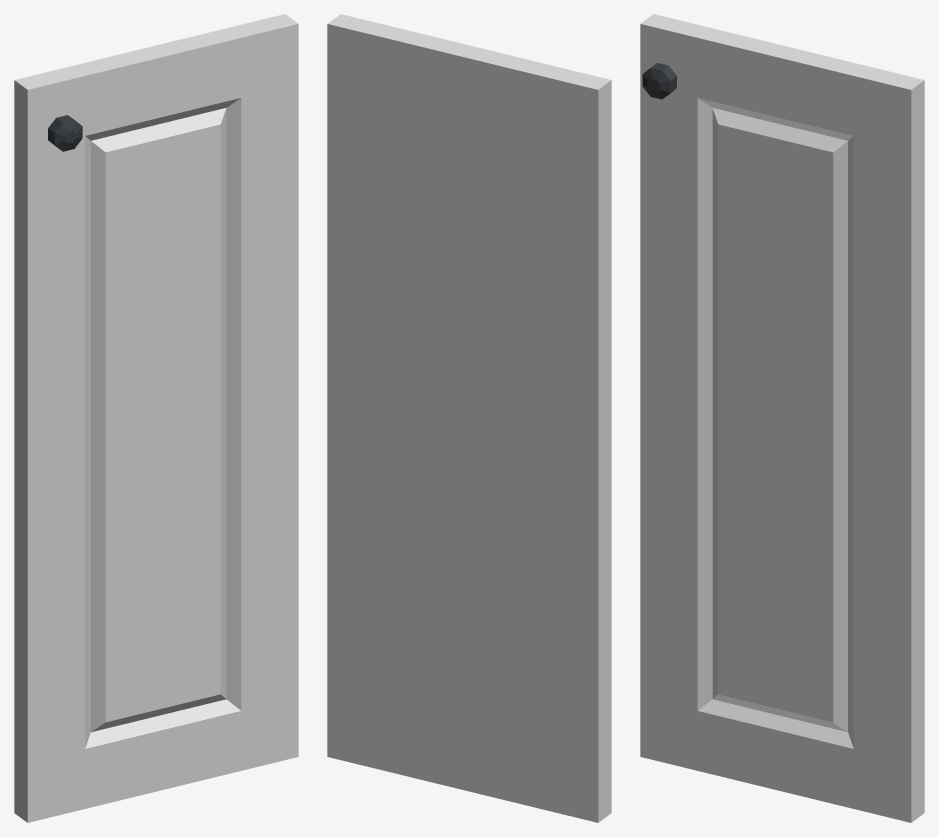
Rendered from Door3_C1_03.fbx.
3 renders of one model, left to right at view 1: azimuth 30°, elevation 25°; view 2: azimuth 150°, elevation 25°; view 3: azimuth 330°, elevation 25°, orthographic.
Visible parts, largest first — view 1: Door3_C1_03; view 2: Door3_C1_03; view 3: Door3_C1_03.
Boxes of the visible parts, left/top/right/bottom form: Door3_C1_03: left=14, top=14, right=298, bottom=822; Door3_C1_03: left=327, top=14, right=611, bottom=822; Door3_C1_03: left=640, top=14, right=924, bottom=822.
Size of the model in its own units: 29 by 75 by 5.19.
